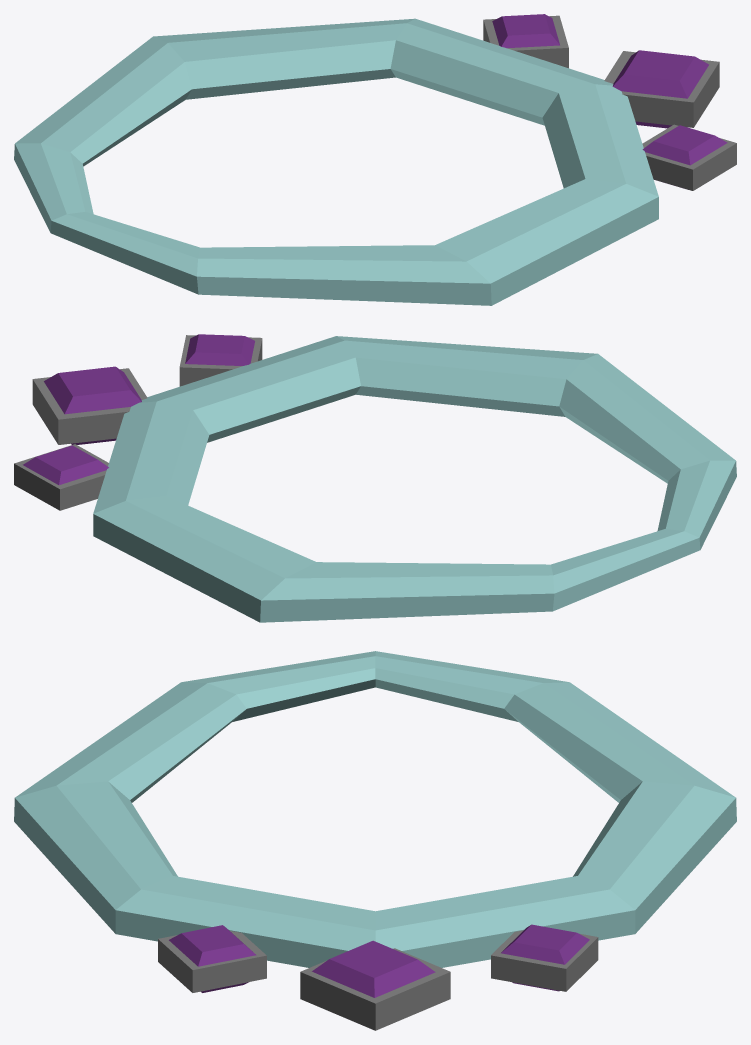
The model's file is Necklace.fbx.
3 views of the same model, one above another, from view 1: azimuth 30°, elevation 25°; view 2: azimuth 150°, elevation 25°; view 3: azimuth 270°, elevation 25° (orthographic). The views are drawn at different scales.
Parts seen in each view (by area): view 1: pTorus1, pCube1, pCube2, pCube3; view 2: pTorus1, pCube1, pCube3, pCube2; view 3: pTorus1, pCube1, pCube2, pCube3.
Boxes of the visible parts, x1,y1,x2,y2 form: pTorus1: (14, 18, 658, 305); pCube1: (604, 50, 719, 128); pCube2: (642, 124, 736, 190); pCube3: (483, 14, 568, 68); pTorus1: (93, 336, 736, 622); pCube1: (32, 366, 147, 444); pCube3: (14, 444, 108, 510); pCube2: (179, 334, 262, 386); pTorus1: (14, 651, 736, 967); pCube1: (300, 940, 450, 1030); pCube2: (158, 925, 266, 992); pCube3: (491, 924, 598, 991).
Bounding box in the file's own units: 7.75 × 0.5423 × 6.79.
